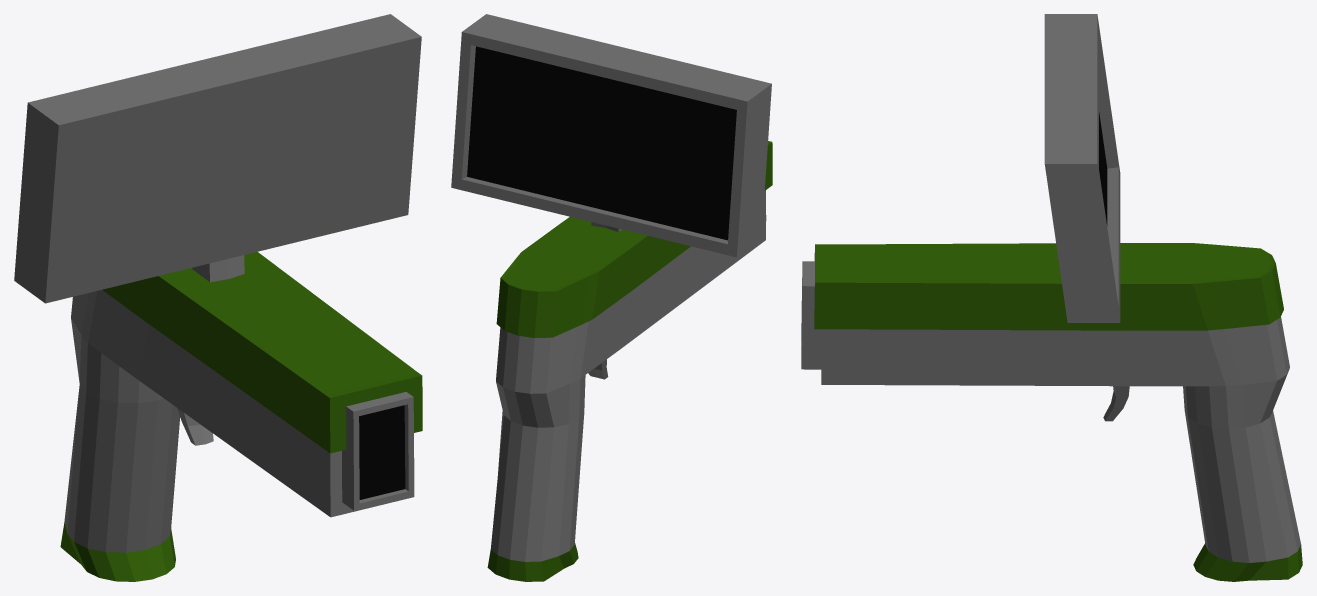
File: Scanner.fbx
3 views of the same model, side by side, from view 1: azimuth 30°, elevation 25°; view 2: azimuth 150°, elevation 25°; view 3: azimuth 270°, elevation 25° (orthographic). The views are drawn at different scales.
Parts seen in each view (by area): view 1: Scanner; view 2: Scanner; view 3: Scanner.
Part boxes in pixels (<box>): Scanner: <box>14,14,422,581</box>; Scanner: <box>451,14,772,581</box>; Scanner: <box>801,14,1302,581</box>.
Bounding box in the file's own units: 802 × 1187 × 1134.
